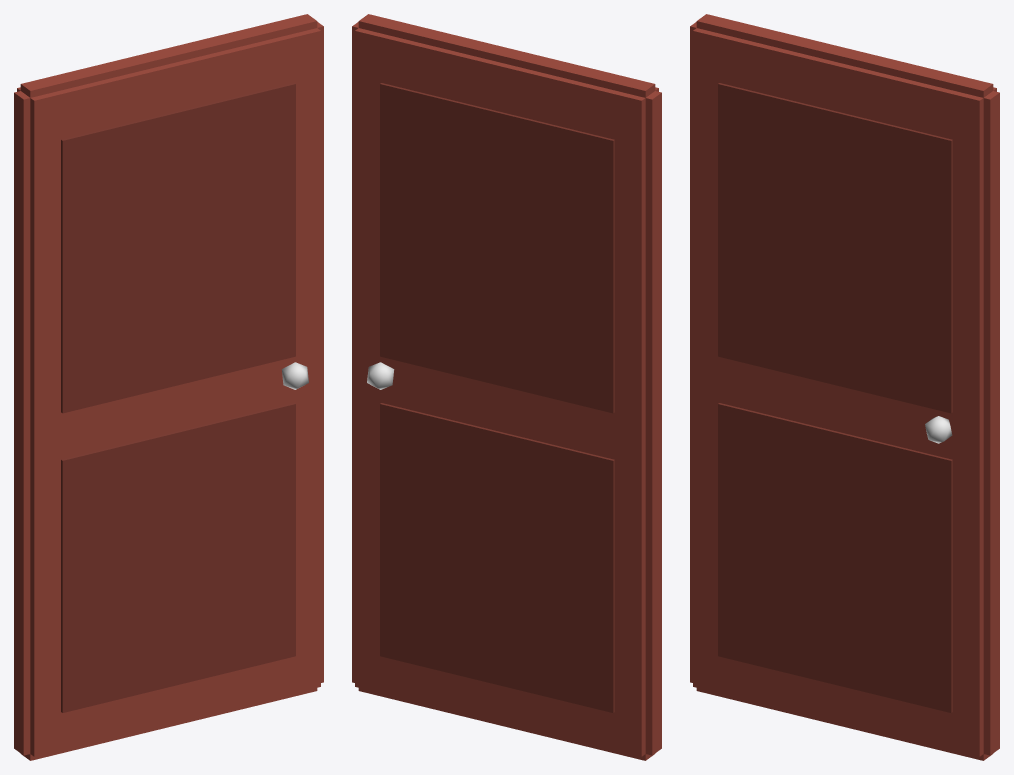
The model's file is rich_mahogany_door_v0.glb.
3 views of the same model, side by side, from view 1: azimuth 30°, elevation 25°; view 2: azimuth 150°, elevation 25°; view 3: azimuth 330°, elevation 25° (orthographic).
Visible parts, largest first — view 1: rich_mahogany_door_v0; view 2: rich_mahogany_door_v0; view 3: rich_mahogany_door_v0.
Part boxes in pixels (bbox=[...]): rich_mahogany_door_v0: bbox=[14, 14, 323, 760]; rich_mahogany_door_v0: bbox=[352, 14, 661, 760]; rich_mahogany_door_v0: bbox=[690, 14, 999, 760].
Size of the model in its own units: 0.9 by 1.92 by 0.2381.
